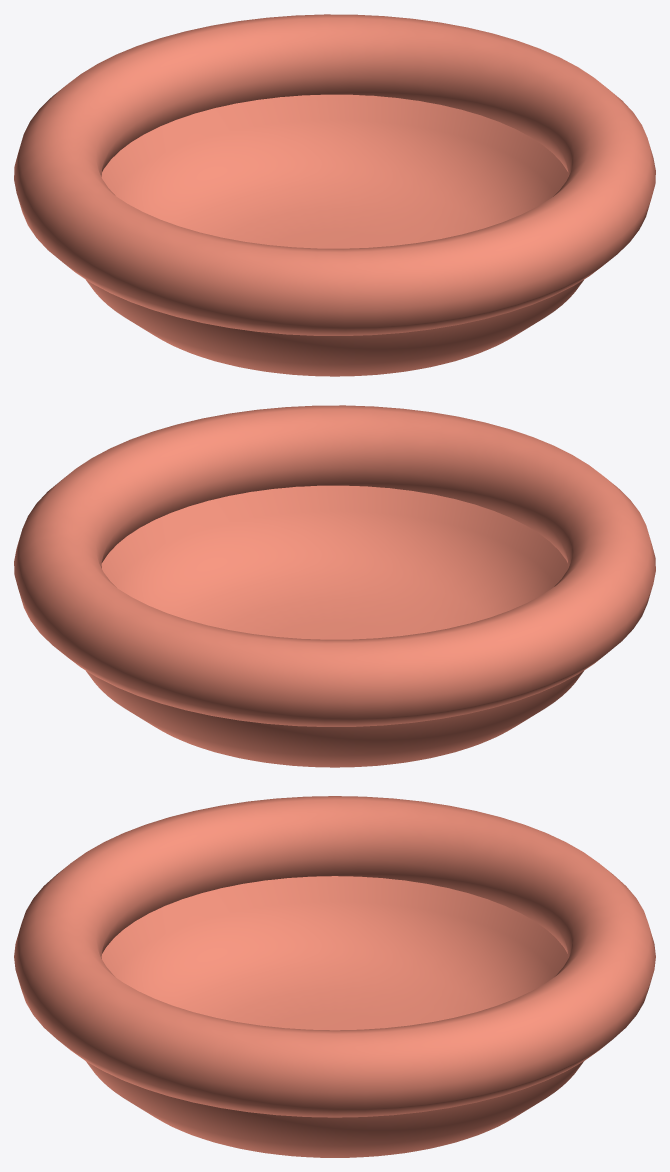
File: fruit_b.glb
The picture shows the model from 3 angles, top to bottom: view 1: azimuth 30°, elevation 25°; view 2: azimuth 150°, elevation 25°; view 3: azimuth 270°, elevation 25°; orthographic projection.
Parts seen in each view (by area): view 1: body; view 2: body; view 3: body.
Part boxes in pixels (x1,y1,x2,y2): body: (14,14,655,376); body: (14,405,655,767); body: (14,796,655,1157).
Size of the model in its own units: 0.366 by 0.11 by 0.366.
